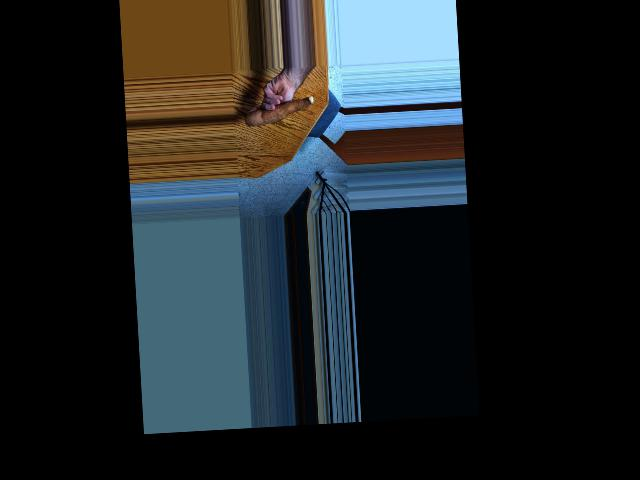sweet_potato: (243, 93, 315, 128)
